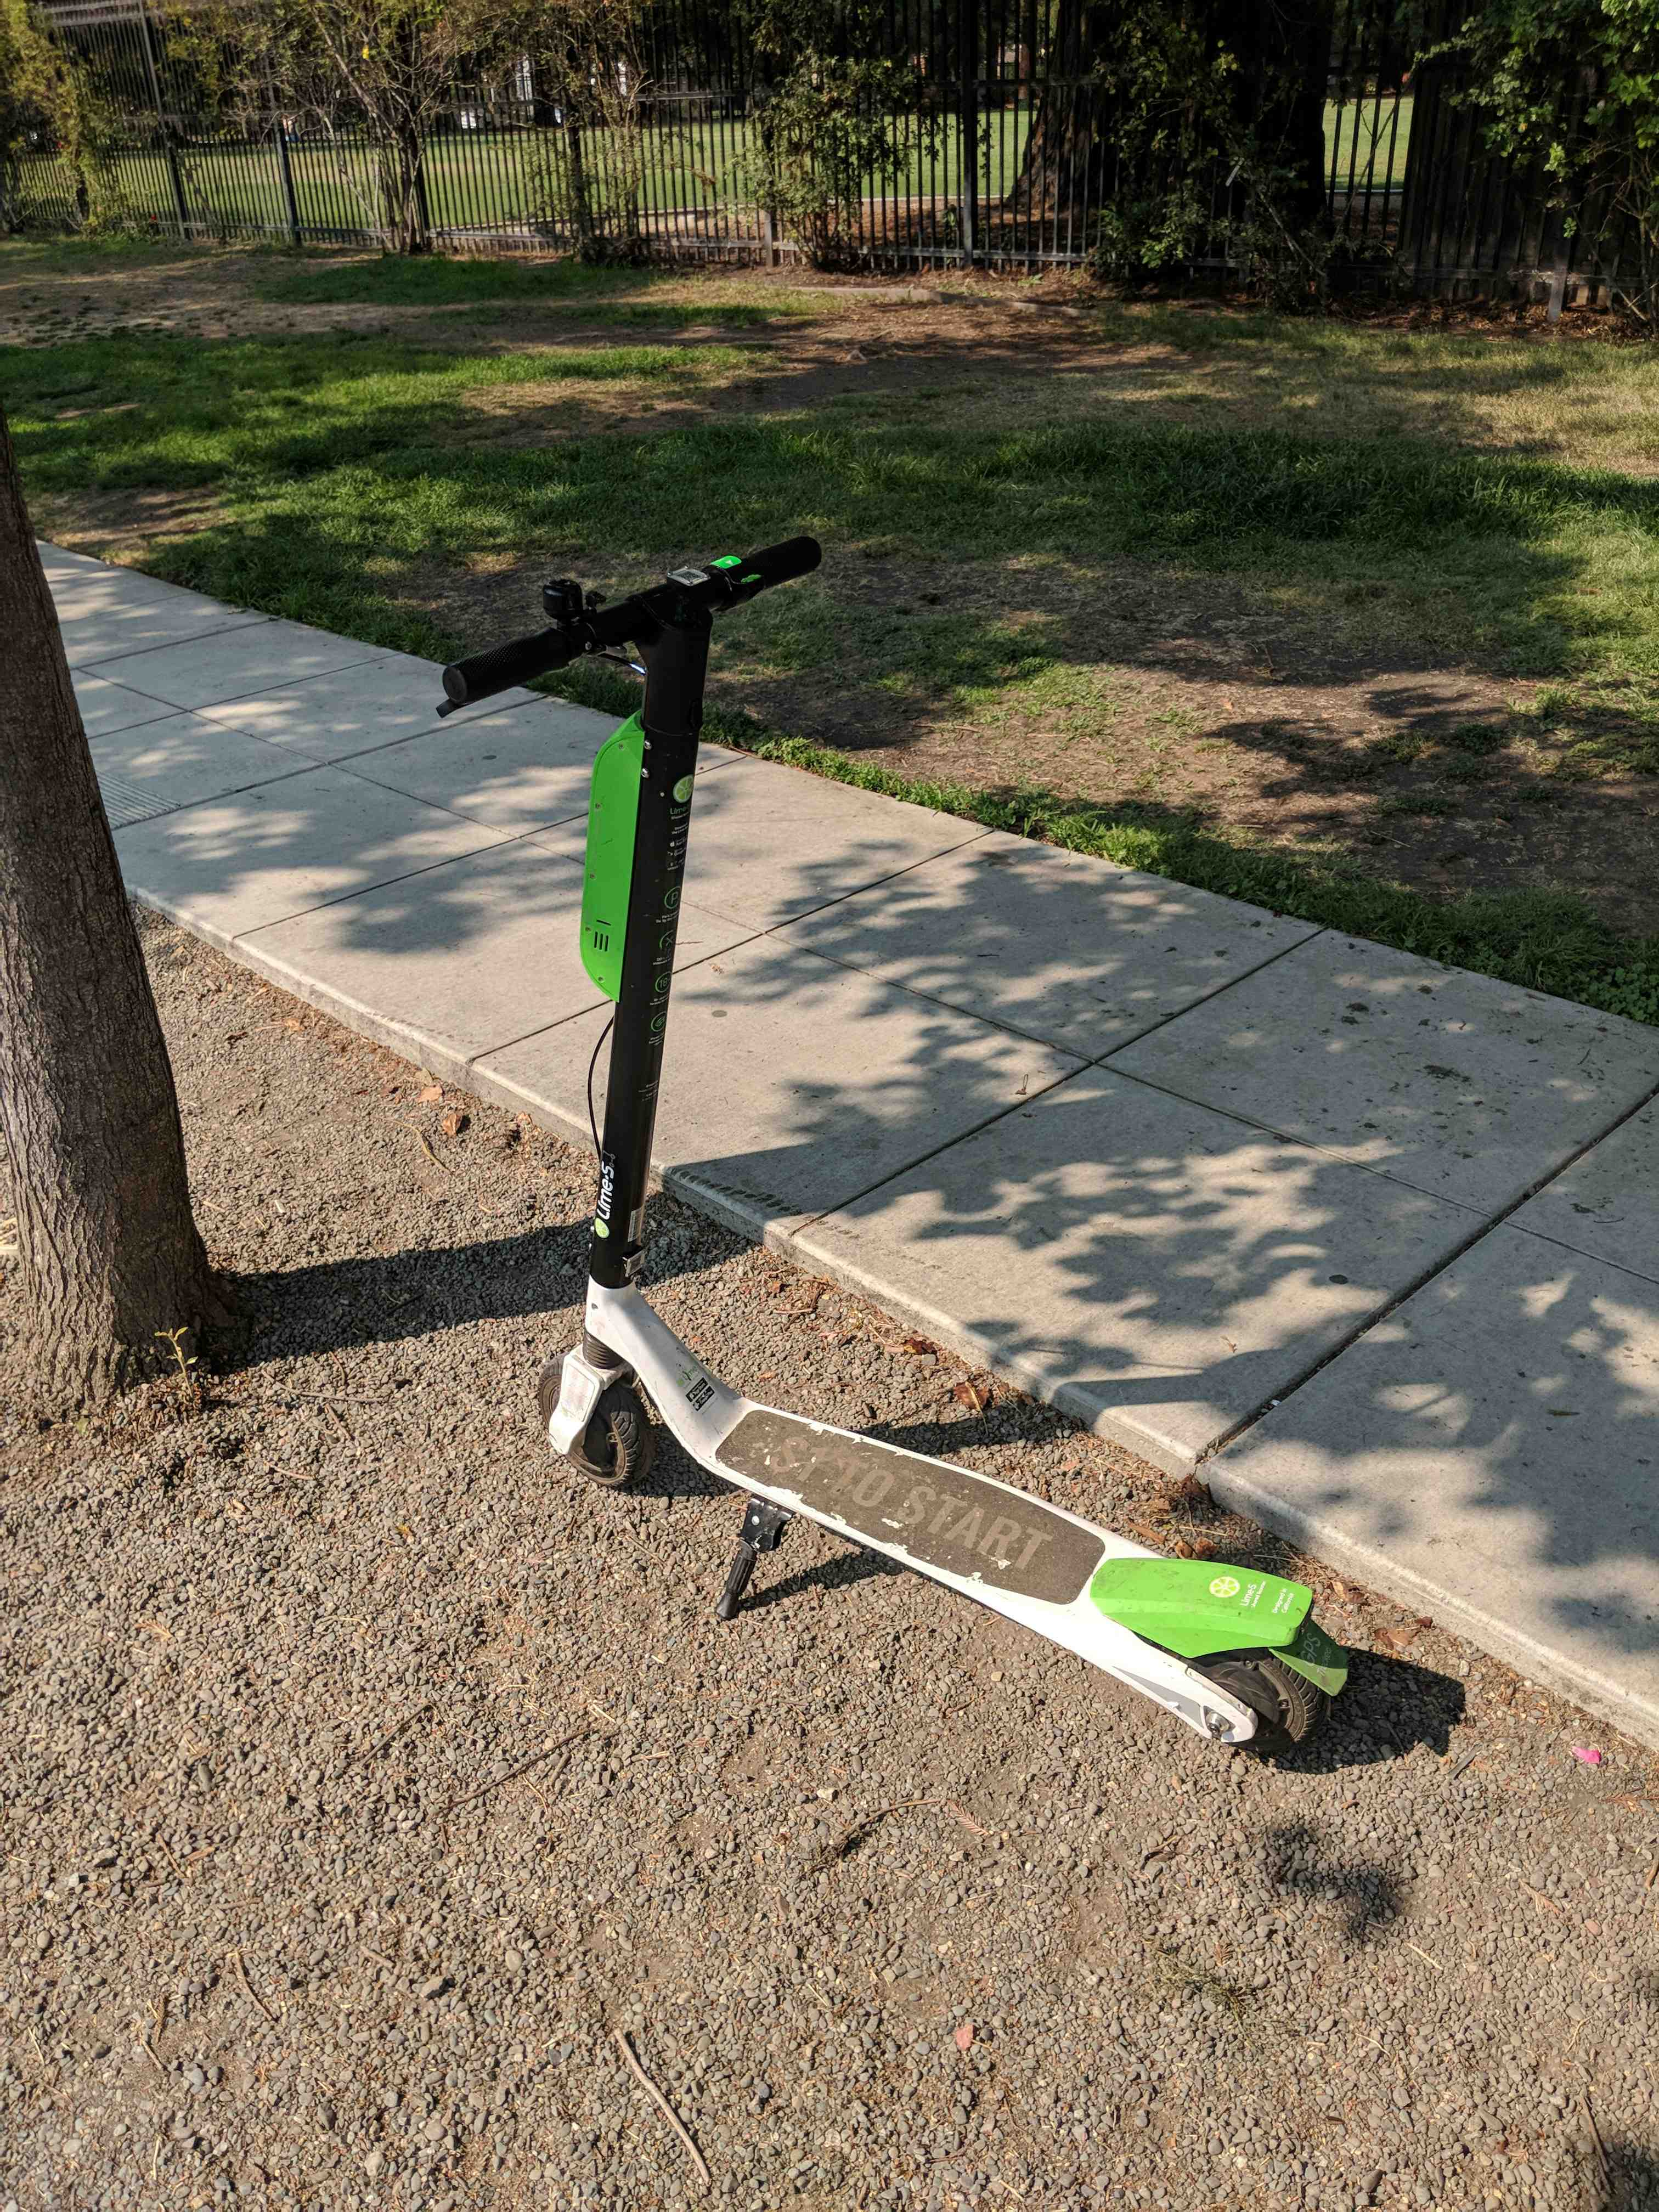scooter: (399, 510, 1443, 1761)
